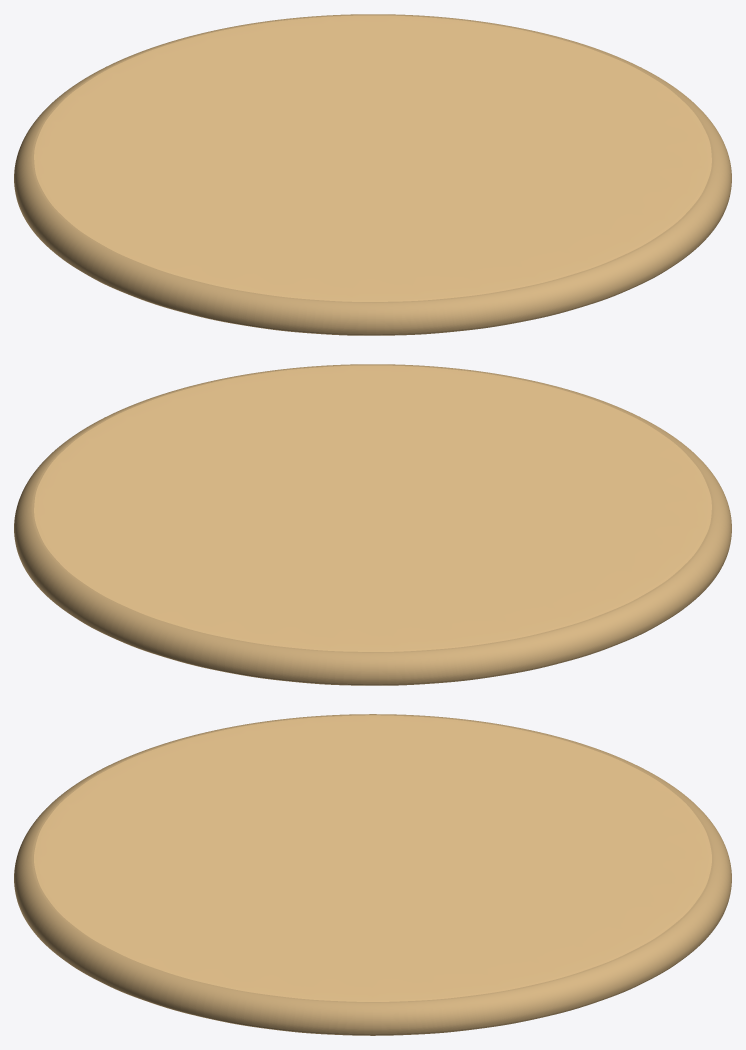
The model's file is Plate.fbx.
3 renders of one model, top to bottom at view 1: azimuth 30°, elevation 25°; view 2: azimuth 150°, elevation 25°; view 3: azimuth 270°, elevation 25°, orthographic.
Visible parts, largest first — view 1: Plate_3.001; view 2: Plate_3.001; view 3: Plate_3.001.
Boxes of the visible parts, x1,y1,x2,y2 form: Plate_3.001: [14, 14, 731, 335]; Plate_3.001: [14, 364, 731, 685]; Plate_3.001: [14, 714, 731, 1035].
Bounding box in the file's own units: 98.63 × 98.63 × 5.44.
